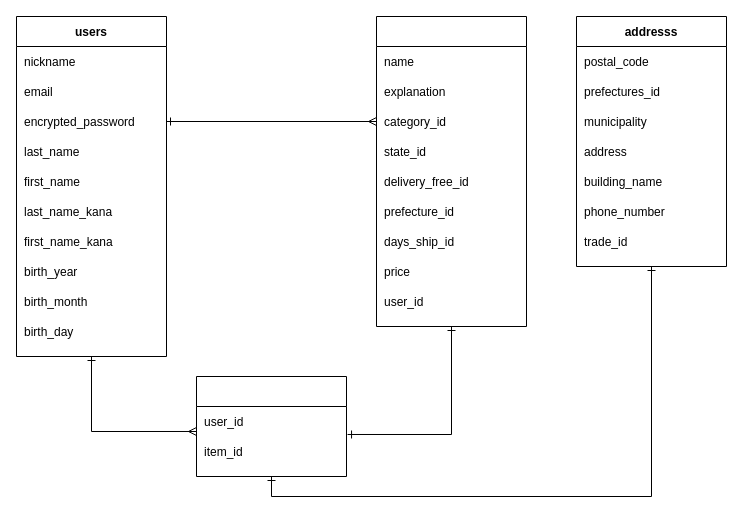
This 743x513 diagram has some shape labels left out. Here are the shapes that lost their labels. From the top down, the box of each, then its label:
(376, 16, 526, 326): items
(196, 376, 346, 476): trades
